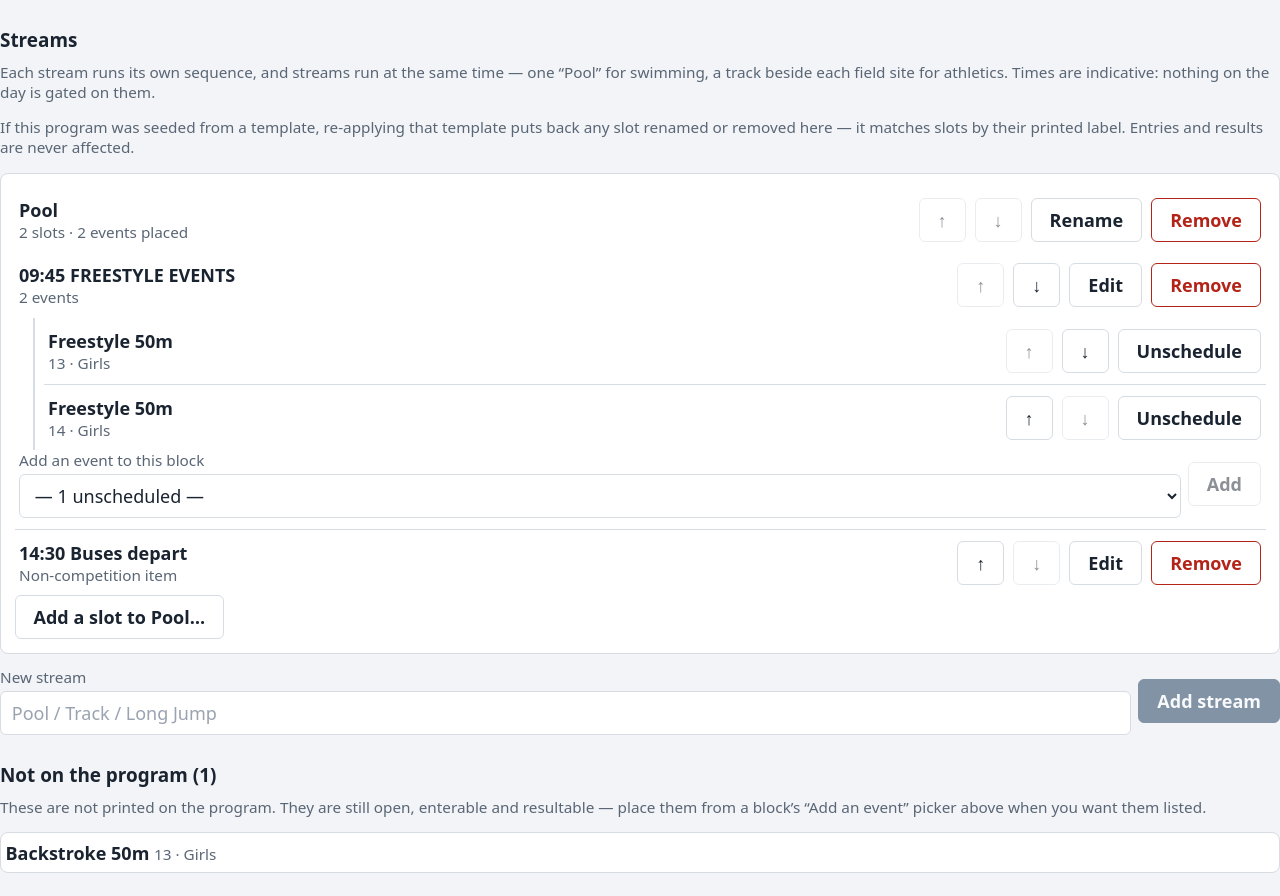
Test: ScheduleBuilder › says what removing a slot actually does before it does it
Click the button "Remove" in the row of "FREESTYLE EVENTS": (1206,286) [1151,264,1261,308]
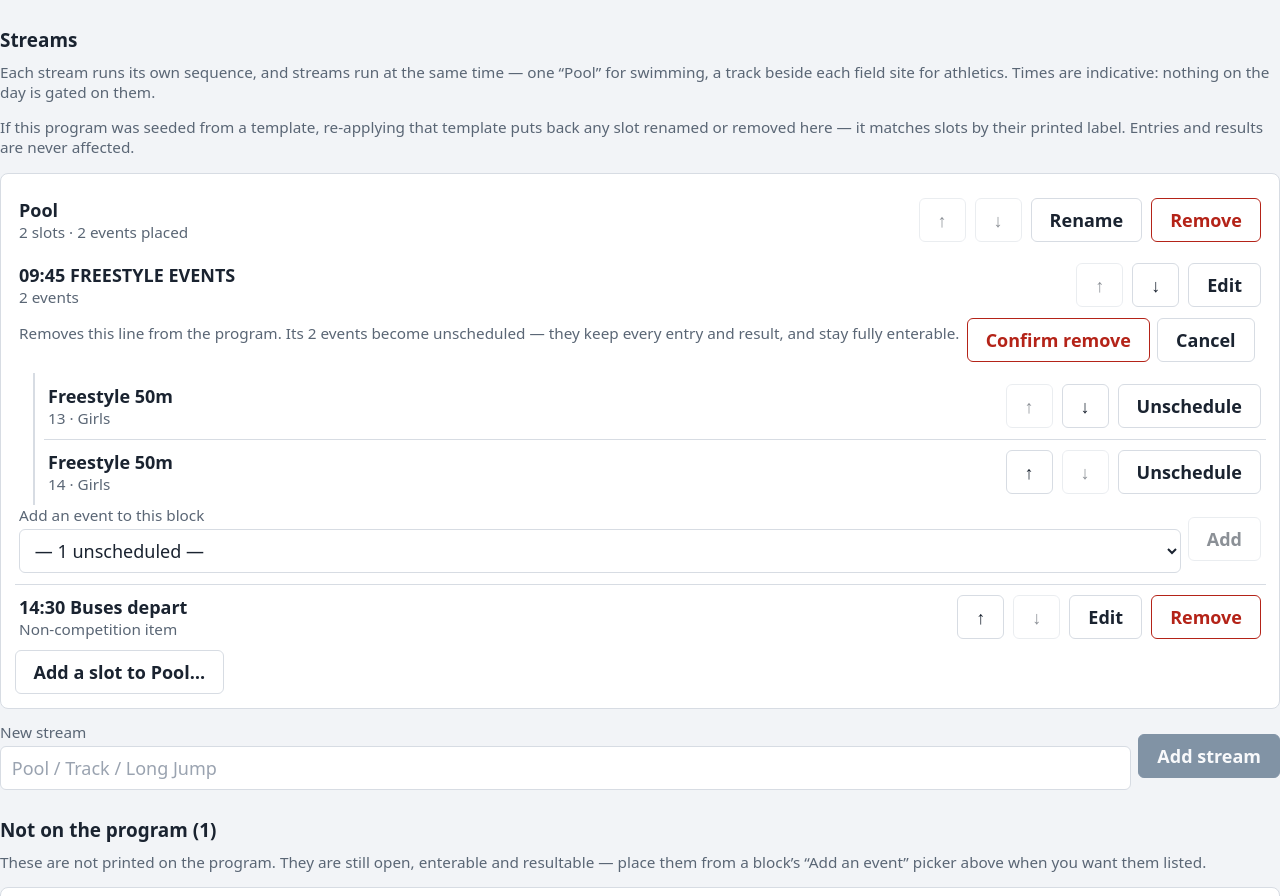
expect the text "keep every entry and result" is shown: met, box [282,323,960,343]
expect the button "Confirm remove" is shown: met, box [967,318,1150,362]
